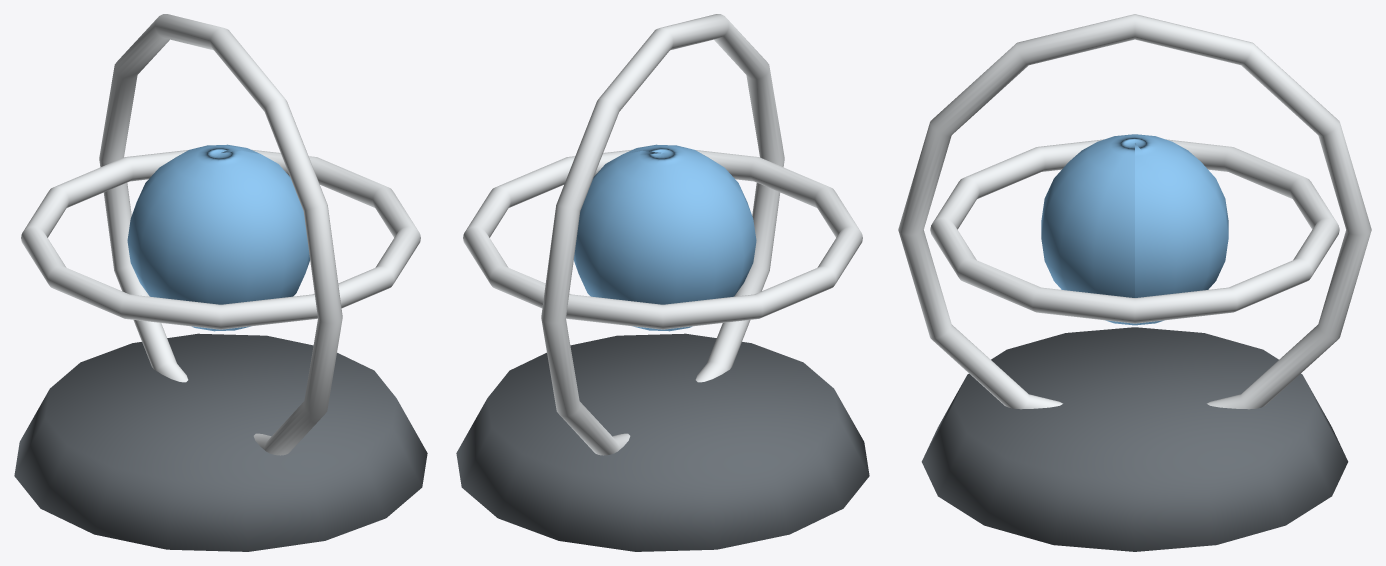
3 views of the same model, side by side, from view 1: azimuth 30°, elevation 25°; view 2: azimuth 150°, elevation 25°; view 3: azimuth 270°, elevation 25° (orthographic). The views are drawn at different scales.
Parts seen in each view (by area): view 1: Generated3DMesh; view 2: Generated3DMesh; view 3: Generated3DMesh.
Boxes of the visible parts, x1,y1,x2,y2 form: Generated3DMesh: [14, 14, 427, 551]; Generated3DMesh: [456, 14, 869, 551]; Generated3DMesh: [898, 14, 1371, 551].
Size of the model in its own units: 2 by 2.31 by 2.22.
